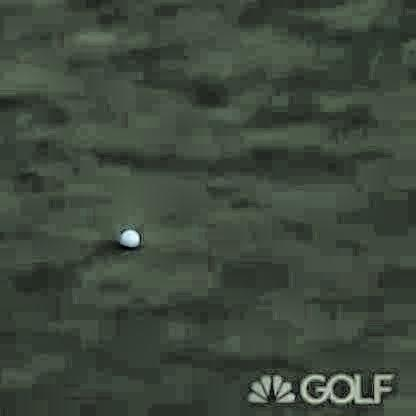golfball: (117, 228, 136, 246)
